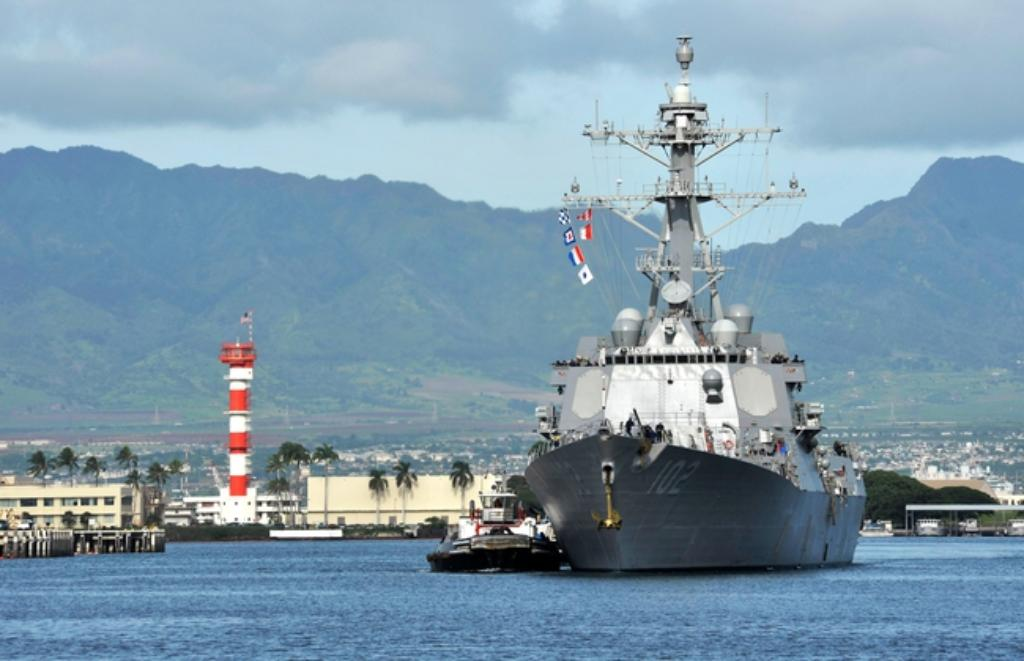Warship: (507, 32, 879, 574)
